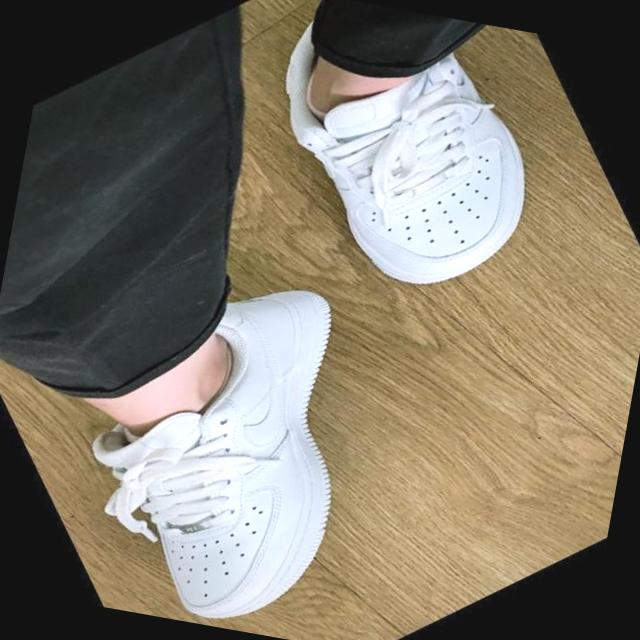nike_original_airforce: (7, 217, 480, 640), (210, 0, 598, 341)
